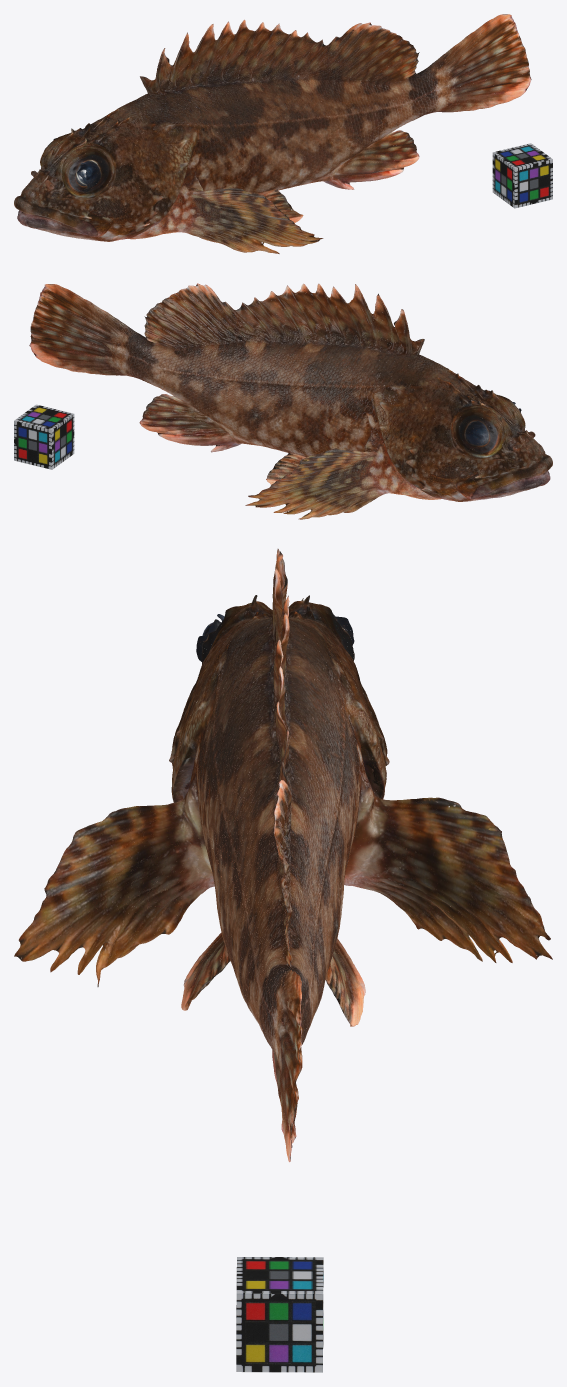
Rendered from kasago.glb.
3 views of the same model, one above another, from view 1: azimuth 30°, elevation 25°; view 2: azimuth 150°, elevation 25°; view 3: azimuth 270°, elevation 25° (orthographic). The views are drawn at different scales.
Visible parts, largest first — view 1: Q11479-1all-1_5, Cube_2; view 2: Q11479-1all-1_5, Cube_2; view 3: Q11479-1all-1_5, Cube_2.
Boxes of the visible parts, bbox=[...] form: Q11479-1all-1_5: bbox=[14, 14, 531, 253]; Cube_2: bbox=[492, 143, 552, 208]; Q11479-1all-1_5: bbox=[29, 283, 552, 519]; Cube_2: bbox=[14, 404, 74, 469]; Q11479-1all-1_5: bbox=[14, 549, 552, 1162]; Cube_2: bbox=[236, 1257, 323, 1372].
Bounding box in the file's own units: 9.5 × 4.3 × 4.31.
Materials: 3 (3 with a texture image).
